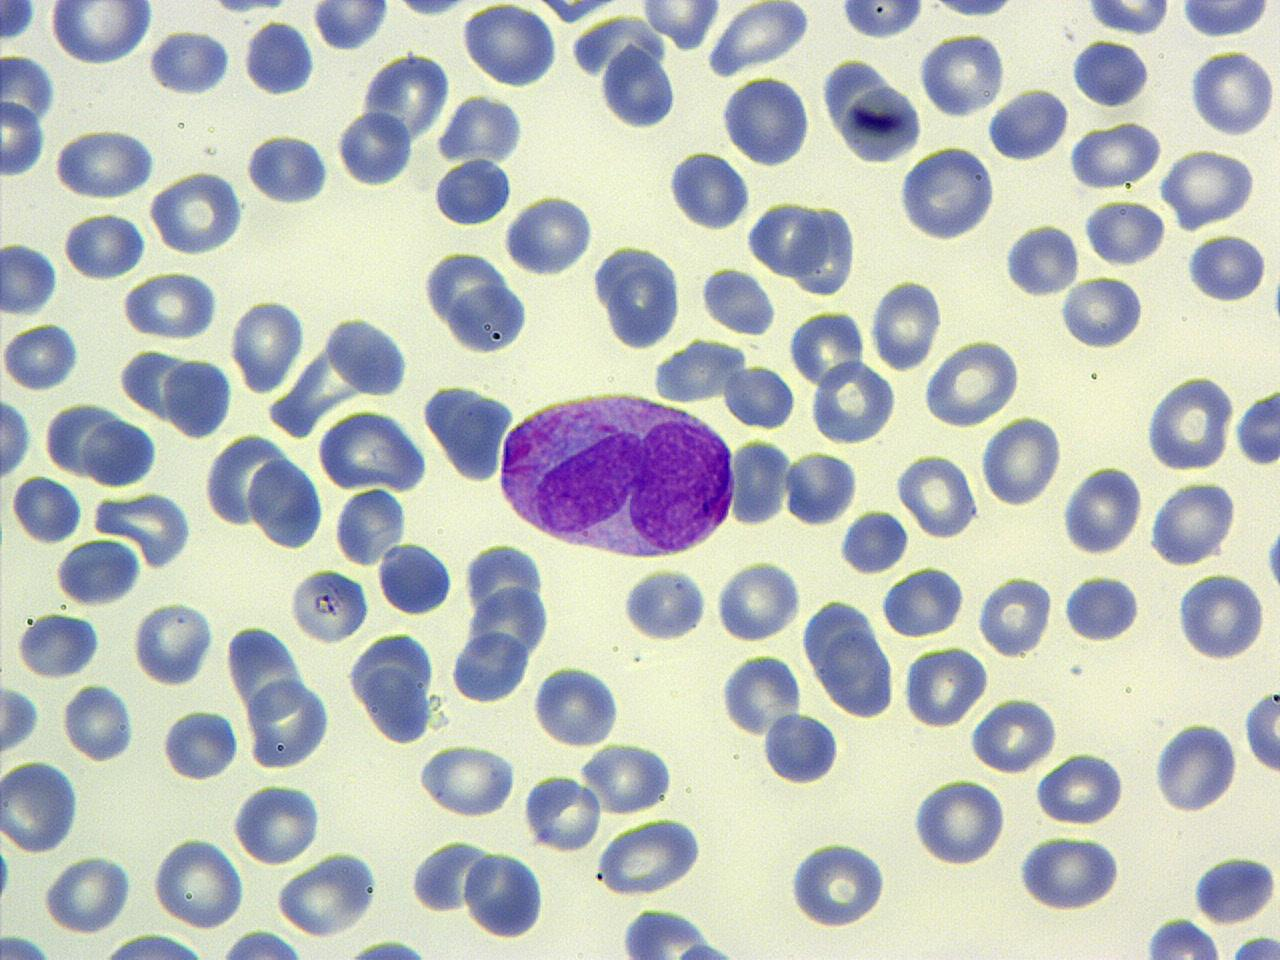Platelets: (834, 72, 922, 166), (1190, 852, 1276, 927), (1003, 220, 1081, 301), (698, 265, 778, 335), (0, 240, 60, 314), (310, 1, 390, 53), (1232, 388, 1280, 470), (1141, 914, 1223, 960), (344, 937, 435, 960), (0, 1, 38, 46), (208, 0, 286, 16), (1263, 526, 1280, 594), (0, 844, 14, 906), (1268, 272, 1280, 330)
RBC: (591, 242, 685, 353), (895, 144, 999, 244), (784, 836, 890, 930), (316, 409, 430, 492), (150, 834, 246, 930), (720, 72, 814, 168), (921, 336, 1020, 429), (909, 774, 1009, 866), (596, 814, 706, 896), (1142, 372, 1234, 470), (244, 676, 336, 771), (149, 167, 248, 256), (460, 3, 561, 89), (1014, 832, 1122, 912), (88, 489, 191, 572), (1173, 568, 1265, 661), (361, 50, 450, 146), (703, 2, 812, 78), (1151, 718, 1237, 814), (980, 412, 1064, 508), (834, 76, 924, 164), (1157, 147, 1257, 228), (1145, 478, 1237, 566), (916, 28, 1006, 117), (531, 662, 623, 748), (502, 192, 596, 276), (1189, 46, 1275, 138), (230, 781, 323, 865), (415, 742, 517, 819), (228, 295, 305, 395), (0, 758, 82, 853), (717, 649, 803, 738), (129, 599, 216, 688), (808, 358, 896, 445), (51, 127, 157, 199), (246, 454, 324, 551), (322, 315, 412, 397), (1061, 463, 1141, 557), (900, 644, 988, 729), (464, 850, 544, 942), (820, 627, 898, 721), (715, 558, 799, 643), (120, 268, 221, 340), (615, 904, 742, 960), (579, 740, 673, 816), (896, 451, 978, 538), (869, 276, 943, 372), (666, 149, 752, 231), (43, 854, 130, 934), (984, 85, 1071, 163), (968, 696, 1055, 774), (242, 130, 334, 205), (46, 1, 153, 65), (1058, 272, 1144, 351), (288, 565, 370, 646), (748, 198, 828, 280), (520, 770, 600, 854), (1067, 121, 1163, 191), (975, 573, 1052, 658), (1034, 752, 1126, 824), (880, 564, 966, 640), (788, 307, 867, 389), (1183, 230, 1271, 304), (407, 836, 492, 912), (54, 536, 144, 607), (447, 278, 528, 356), (336, 107, 413, 188), (793, 203, 858, 299), (62, 680, 137, 763), (728, 435, 792, 530), (447, 629, 530, 704), (1002, 221, 1078, 299), (376, 541, 456, 616), (333, 485, 407, 566), (62, 210, 147, 280), (1081, 197, 1167, 266), (782, 450, 858, 528), (1060, 571, 1142, 643), (145, 29, 231, 98), (160, 707, 240, 781), (698, 264, 780, 336), (14, 612, 102, 679), (164, 354, 234, 438), (430, 157, 512, 228), (1070, 38, 1150, 110), (1, 320, 80, 390), (80, 418, 159, 488), (9, 473, 83, 545), (722, 363, 797, 430), (838, 508, 910, 576), (1, 240, 59, 318), (638, 0, 722, 52), (310, 0, 392, 51), (1139, 914, 1225, 960), (1234, 385, 1280, 470), (1176, 0, 1276, 39), (0, 95, 47, 177), (836, 0, 926, 41), (1, 678, 44, 757), (1241, 687, 1279, 775), (214, 926, 310, 960), (1082, 0, 1172, 36), (0, 390, 31, 484), (920, 0, 1023, 25)
WBC: (0, 0, 637, 248), (494, 383, 737, 564), (584, 240, 690, 354), (346, 628, 445, 744), (822, 56, 924, 167), (896, 144, 998, 245), (596, 818, 706, 898), (1015, 834, 1125, 914), (1146, 478, 1238, 567), (1, 758, 85, 855), (611, 906, 755, 960), (598, 42, 680, 129), (986, 82, 1070, 165), (620, 564, 708, 644), (244, 128, 330, 208), (818, 632, 896, 720), (522, 770, 602, 854), (145, 25, 231, 100), (1190, 852, 1276, 926), (377, 538, 455, 619), (0, 67, 54, 182), (880, 565, 963, 640), (446, 280, 530, 355), (1061, 568, 1141, 645), (760, 710, 841, 786), (57, 536, 142, 608), (13, 612, 103, 679), (431, 157, 514, 229), (242, 19, 316, 98), (1069, 38, 1151, 109), (838, 506, 912, 577), (191, 926, 321, 960), (91, 928, 225, 959), (1175, 0, 1275, 38)
